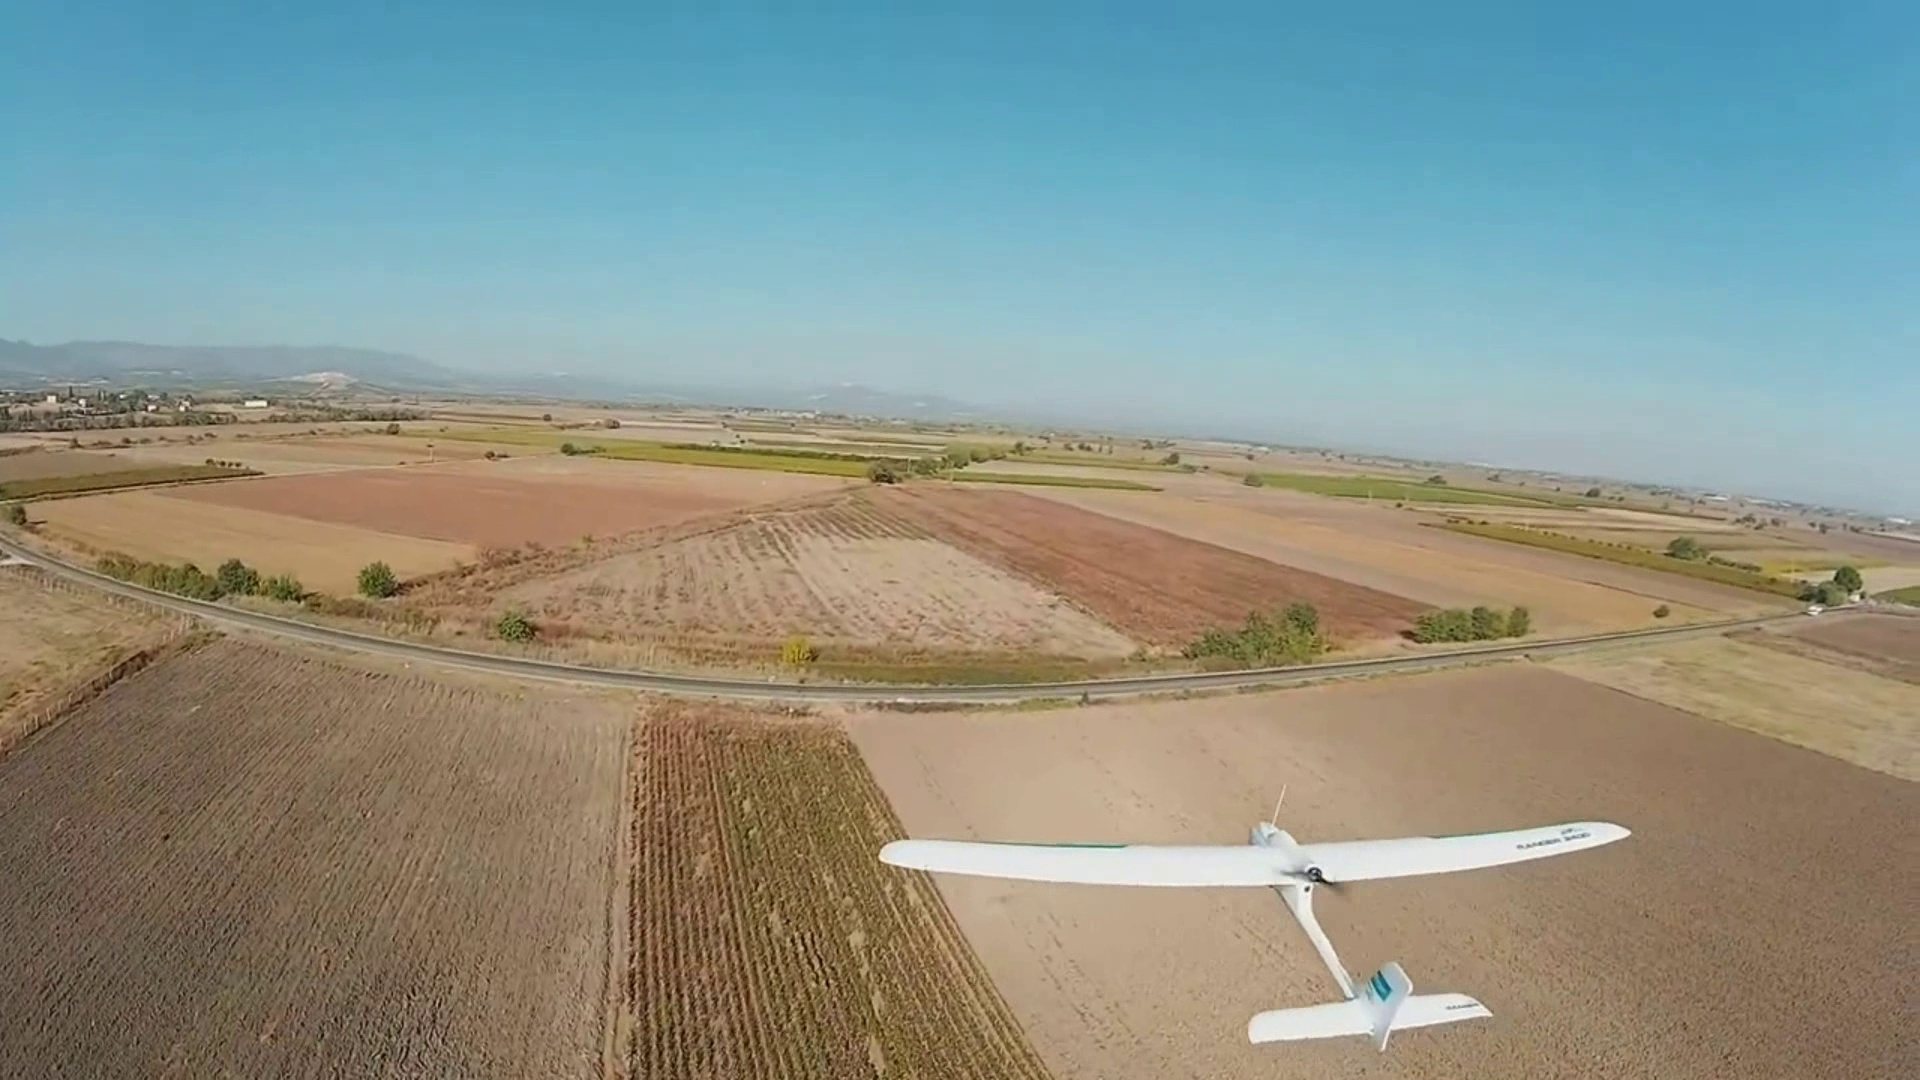airplane: (878, 812, 1631, 1047)
